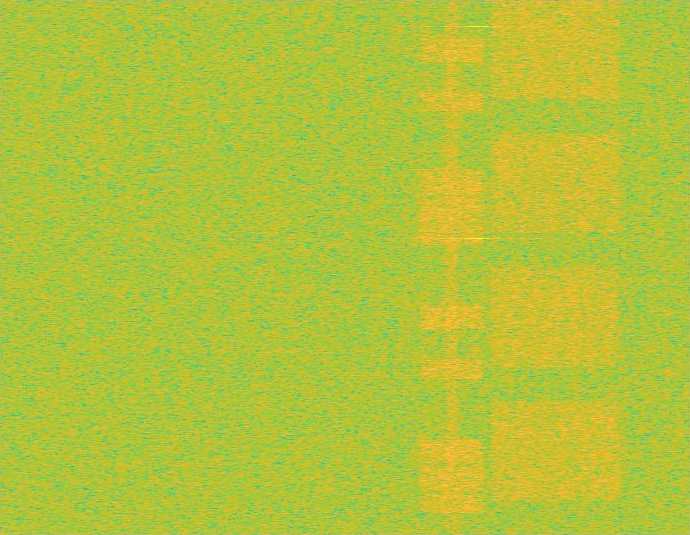5G: (486, 0, 624, 534)
DSSS: (444, 0, 460, 534)
LTE: (417, 0, 486, 534)
Radar: (471, 0, 484, 534)
